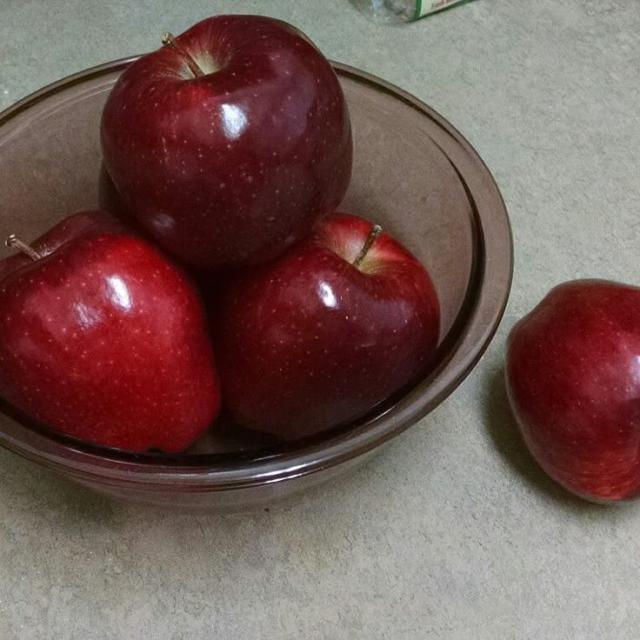apple: (101, 15, 352, 270), (0, 212, 219, 452), (212, 214, 439, 439), (507, 280, 639, 501)
